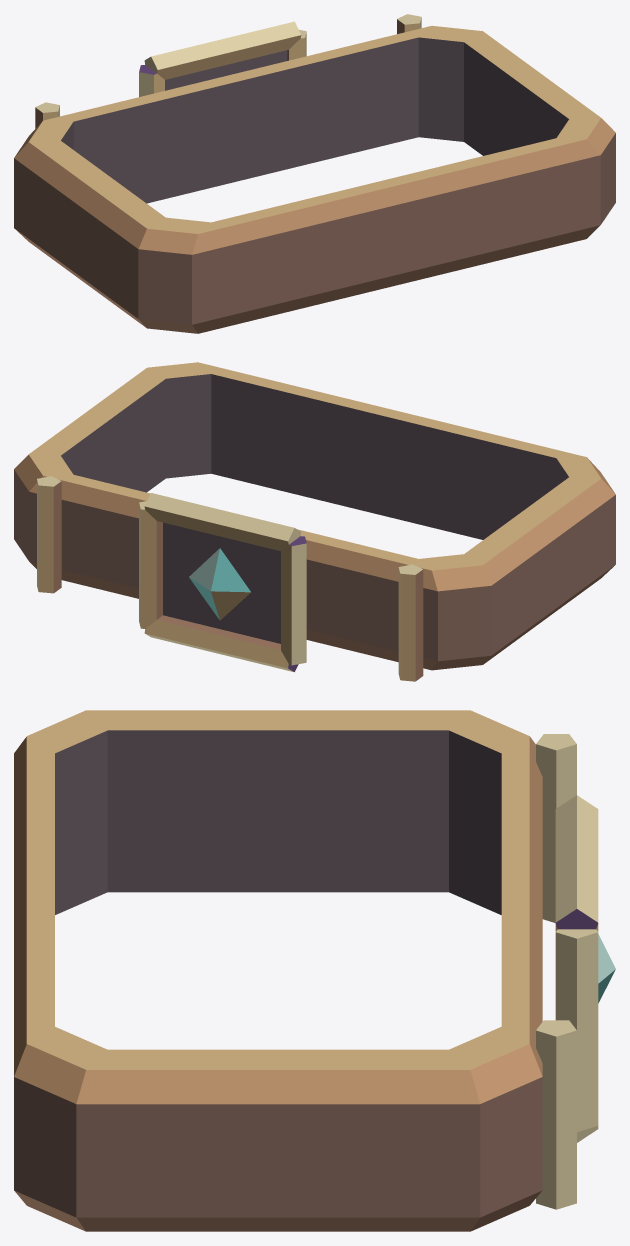
The model's file is copper_belt.glb.
3 views of the same model, one above another, from view 1: azimuth 30°, elevation 25°; view 2: azimuth 150°, elevation 25°; view 3: azimuth 270°, elevation 25° (orthographic). The views are drawn at different scales.
Visible parts, largest first — view 1: body; view 2: body; view 3: body.
Part boxes in pixels (left/top/right/bottom): body: left=14, top=14, right=615, bottom=333; body: left=14, top=362, right=615, bottom=681; body: left=14, top=710, right=615, bottom=1231.
Bounding box in the file's own units: 8.71 × 2.52 × 5.87.
